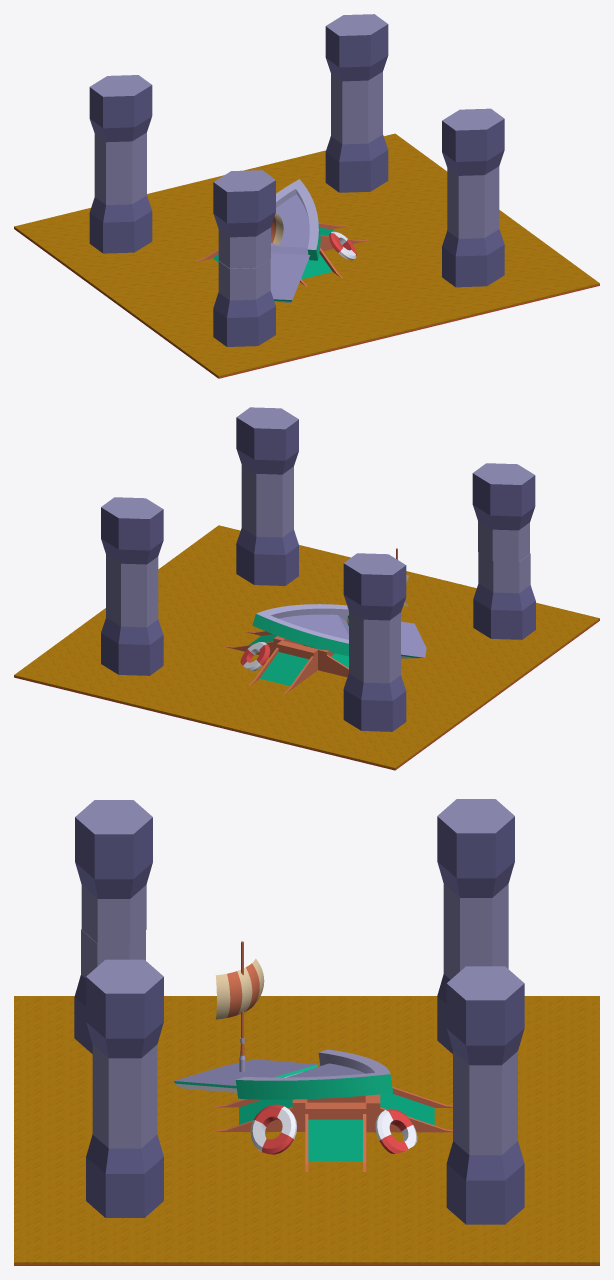
The model's file is Boat_map_WIP.glb.
3 views of the same model, one above another, from view 1: azimuth 30°, elevation 25°; view 2: azimuth 150°, elevation 25°; view 3: azimuth 270°, elevation 25° (orthographic). The views are drawn at different scales.
Visible parts, largest first — view 1: mergedBlocks(Clone); view 2: mergedBlocks(Clone); view 3: mergedBlocks(Clone).
Part boxes in pixels (x1,y1,x2,y2): mergedBlocks(Clone): (14,14,599,378); mergedBlocks(Clone): (14,407,599,770); mergedBlocks(Clone): (14,799,599,1265).
Size of the model in its own units: 20.67 by 8.75 by 19.23.
11 materials, 1 textured.
